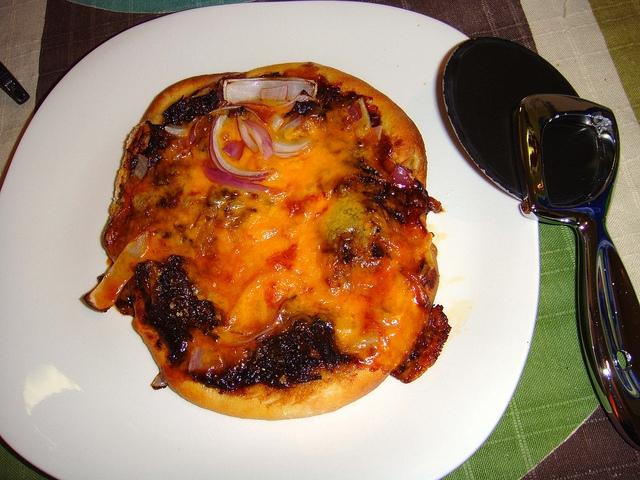onion: (82, 232, 150, 312), (210, 114, 268, 181), (224, 78, 318, 108), (205, 166, 282, 196), (242, 118, 274, 160), (124, 154, 148, 188), (390, 163, 413, 187), (222, 141, 246, 161), (188, 349, 210, 370), (272, 142, 310, 153), (165, 124, 190, 137), (266, 114, 284, 132), (151, 372, 168, 390), (347, 103, 362, 123)
